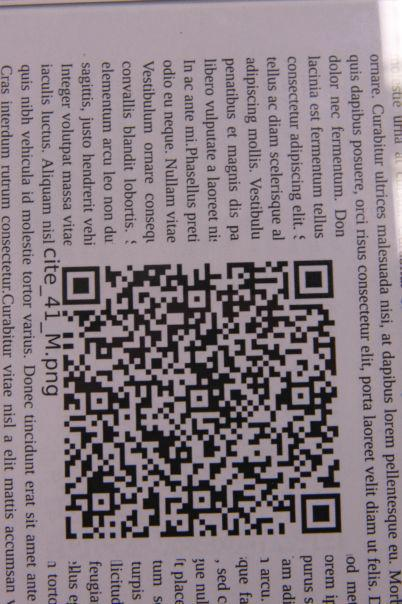Finder pattern: (295, 487, 345, 538), (289, 255, 338, 304), (58, 262, 105, 310)
